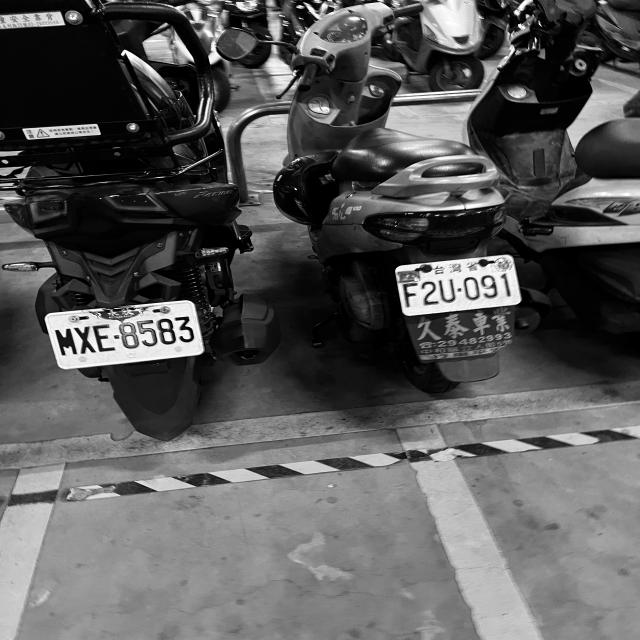-: (113, 332, 120, 340), (457, 288, 462, 292)
0: (462, 276, 482, 302)
1: (499, 272, 513, 298)
2: (420, 280, 440, 306)
3: (173, 315, 197, 344)
5: (136, 319, 160, 348)
8: (117, 321, 142, 351), (154, 318, 180, 346)
9: (479, 273, 500, 300)
E: (91, 324, 118, 353)
F: (401, 282, 421, 309)
M: (54, 327, 79, 357)
U: (437, 277, 459, 304)
X: (72, 325, 96, 355)
plate: (46, 301, 204, 368), (396, 257, 521, 315)
